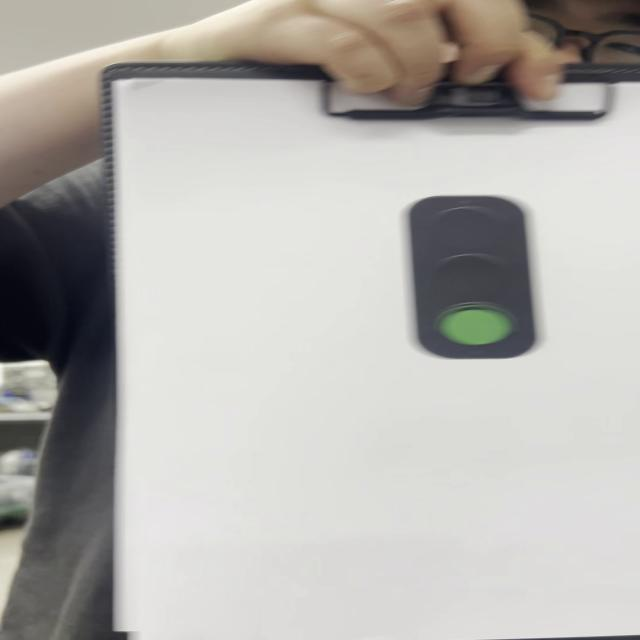green: (408, 197, 534, 359)
